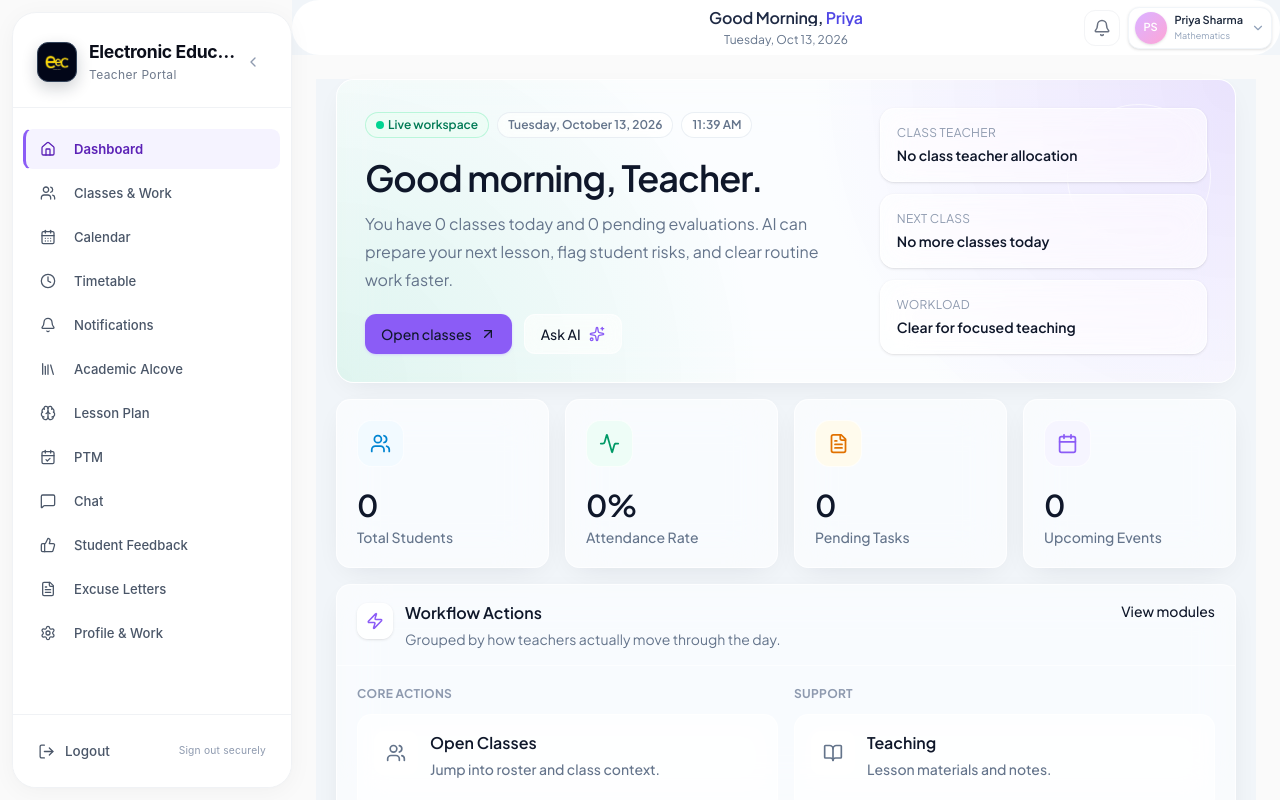
Scenario: TeacherPortal › opens profile dropdown when avatar is clicked
Click the button with aria-label "Profile menu" at {"x": 1200, "y": 28}, box [1128,6,1272,48]
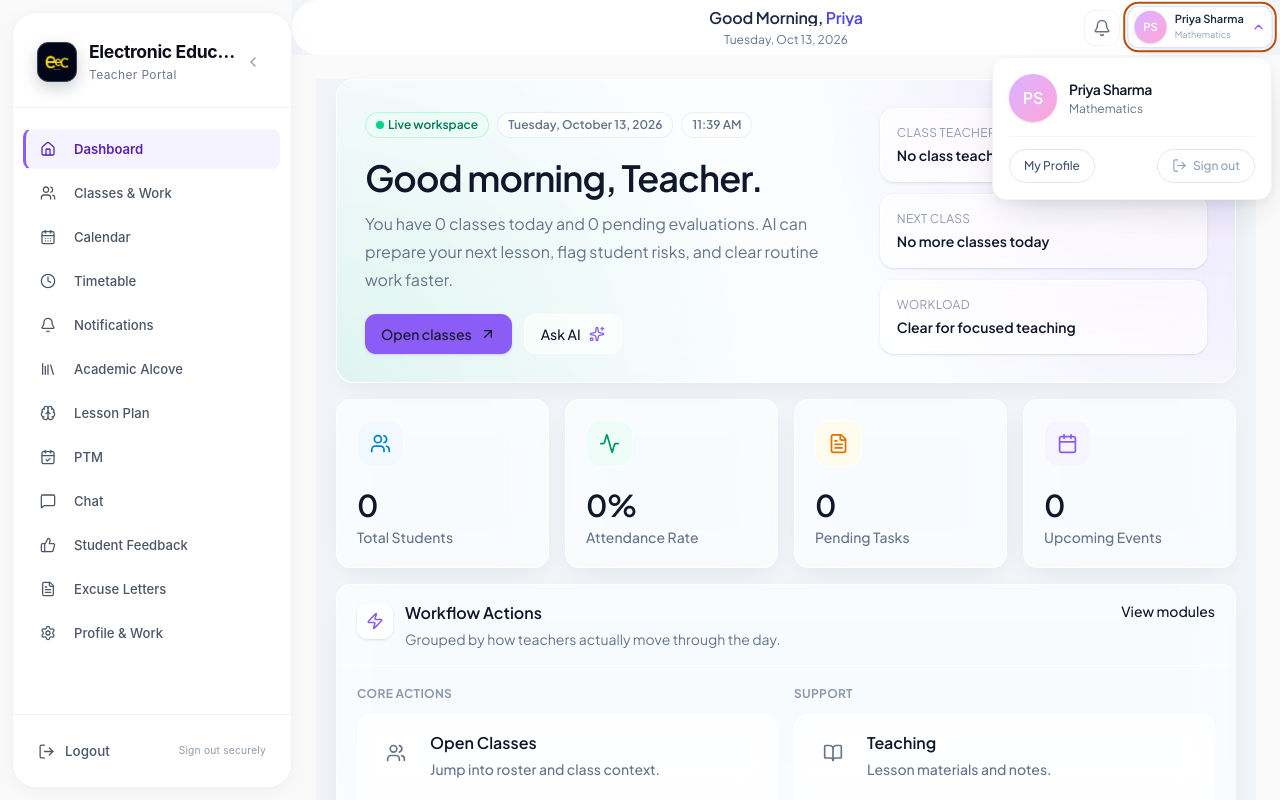
expect the text "Sign out securely" is shown: met, box [179,743,266,759]
expect the menu item "My Profile" is shown: met, box [1009,148,1095,182]
